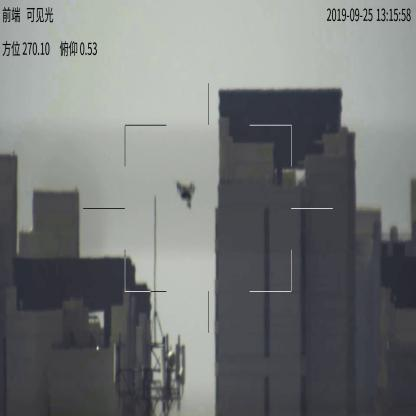uav: (177, 179, 200, 209)
